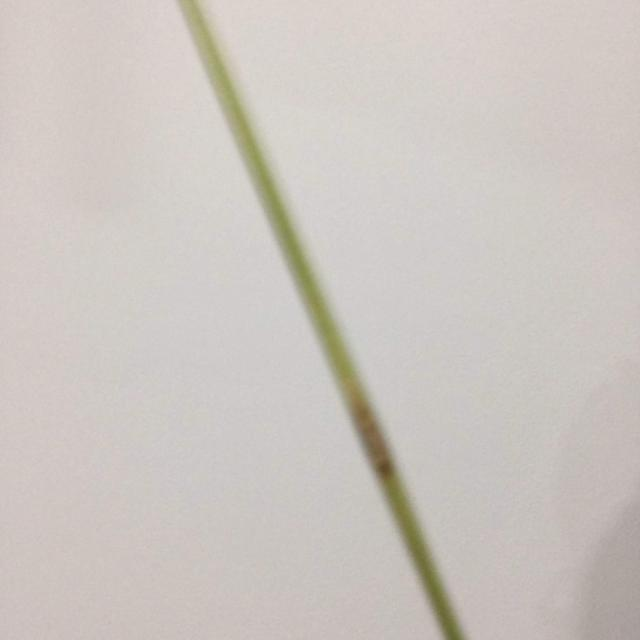Blast: (353, 402, 398, 474)
